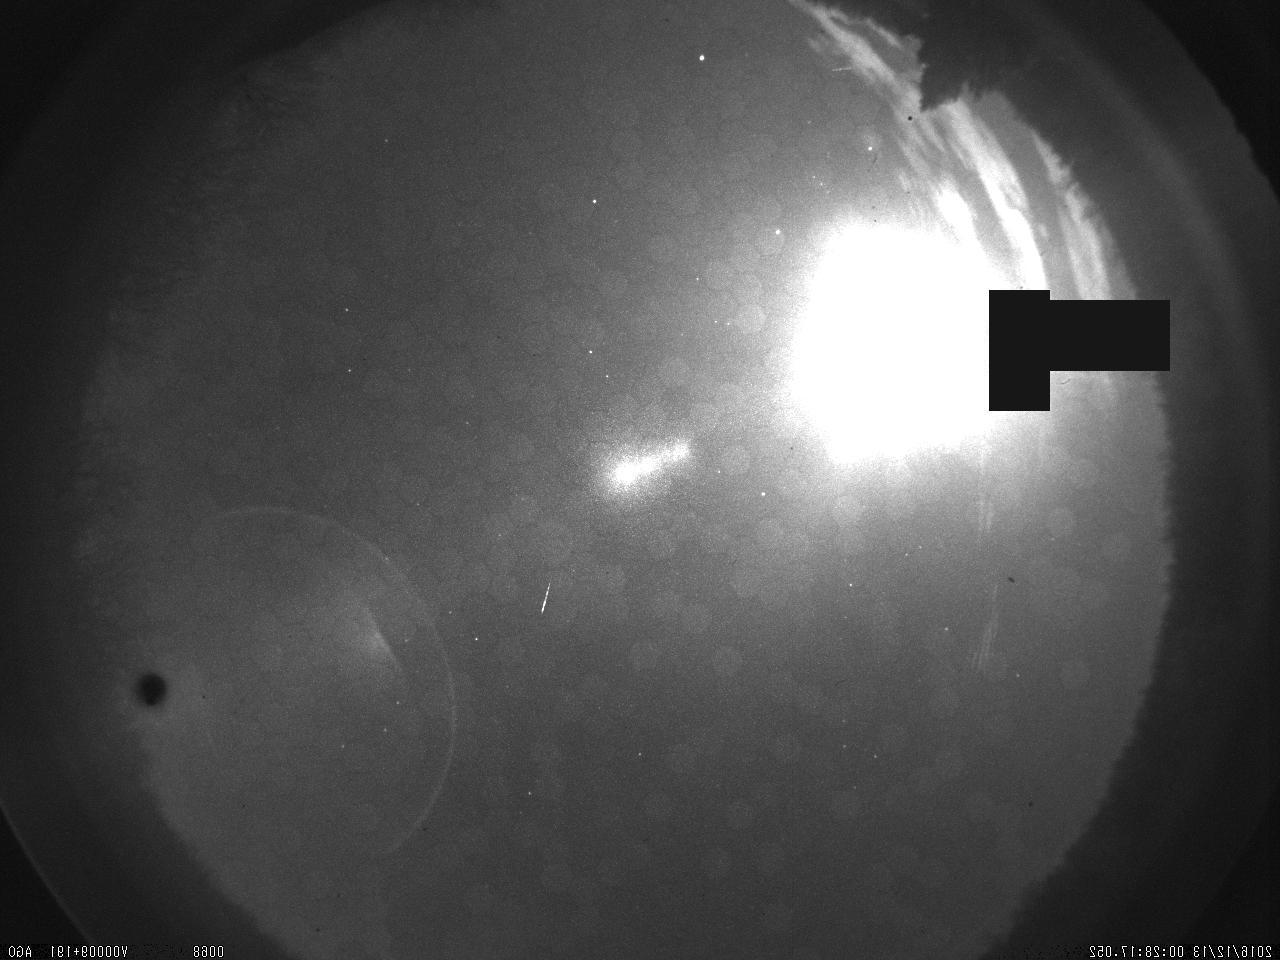meteor: (487, 564, 579, 645)
